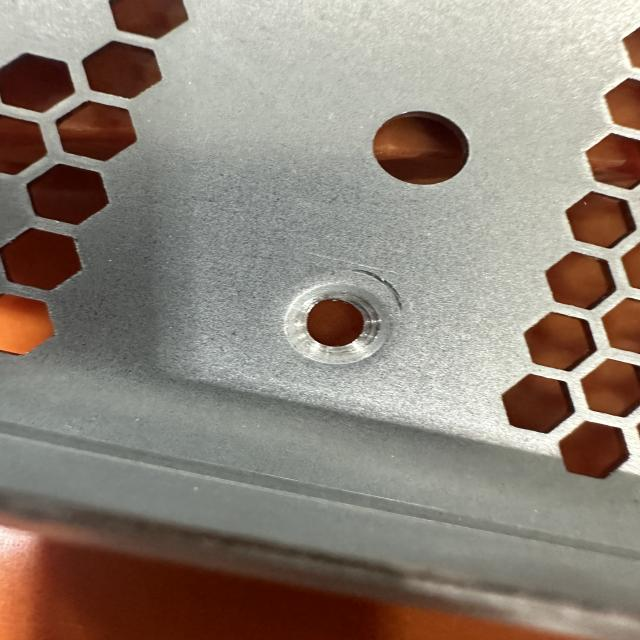Missing screw: (275, 270, 405, 375)
